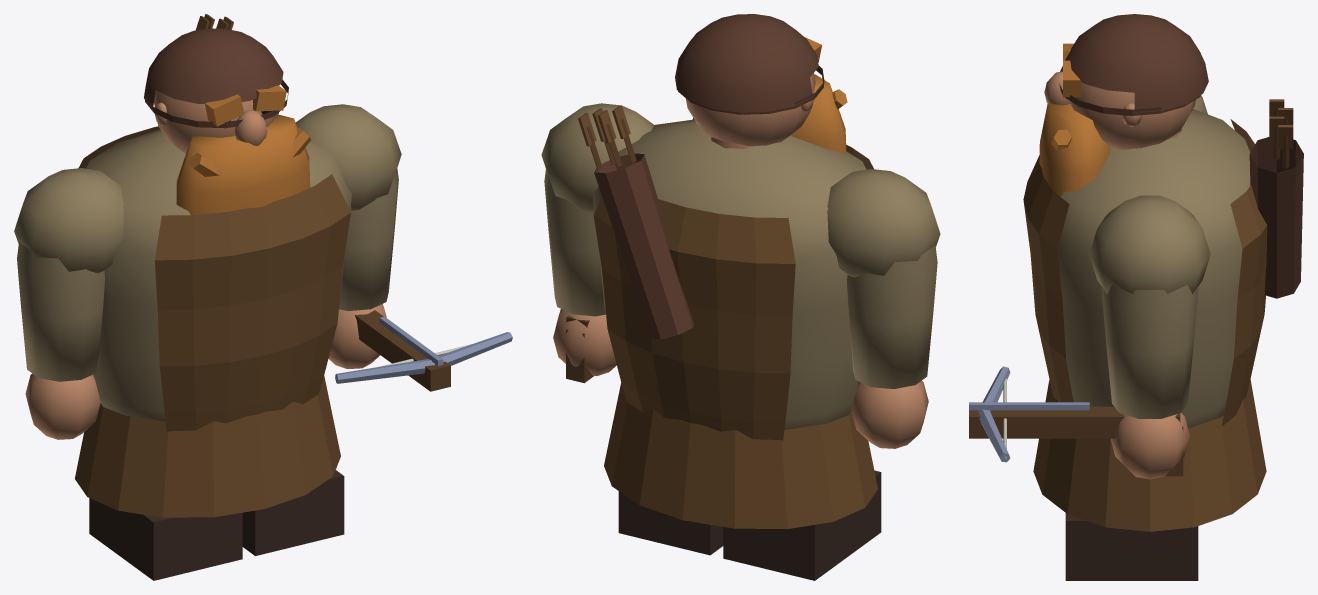
Rendered from dwarf_slinger.glb.
3 renders of one model, left to right at view 1: azimuth 30°, elevation 25°; view 2: azimuth 150°, elevation 25°; view 3: azimuth 270°, elevation 25°, orthographic. The views are drawn at different scales.
Parts seen in each view (by area): view 1: Body, Head, ArmL, ArmR, LegL, LegR; view 2: Body, Head, ArmL, ArmR, LegL, LegR; view 3: Body, ArmR, Head, LegR.
Part boxes in pixels (<box>): Body: <box>14,14,401,517</box>; Head: <box>144,28,311,215</box>; ArmL: <box>17,214,104,439</box>; ArmR: <box>328,168,512,391</box>; LegL: <box>89,498,242,580</box>; LegR: <box>242,470,344,555</box>; Body: <box>541,103,940,529</box>; Head: <box>675,14,847,153</box>; ArmL: <box>847,213,937,448</box>; ArmR: <box>544,170,616,383</box>; LegL: <box>723,470,881,580</box>; LegR: <box>618,491,723,555</box>; Body: <box>1023,95,1303,531</box>; ArmR: <box>969,285,1198,479</box>; Head: <box>1039,14,1208,196</box>; LegR: <box>1065,513,1198,580</box>.
Size of the model in its own units: 1.64 by 1.87 by 1.11.
